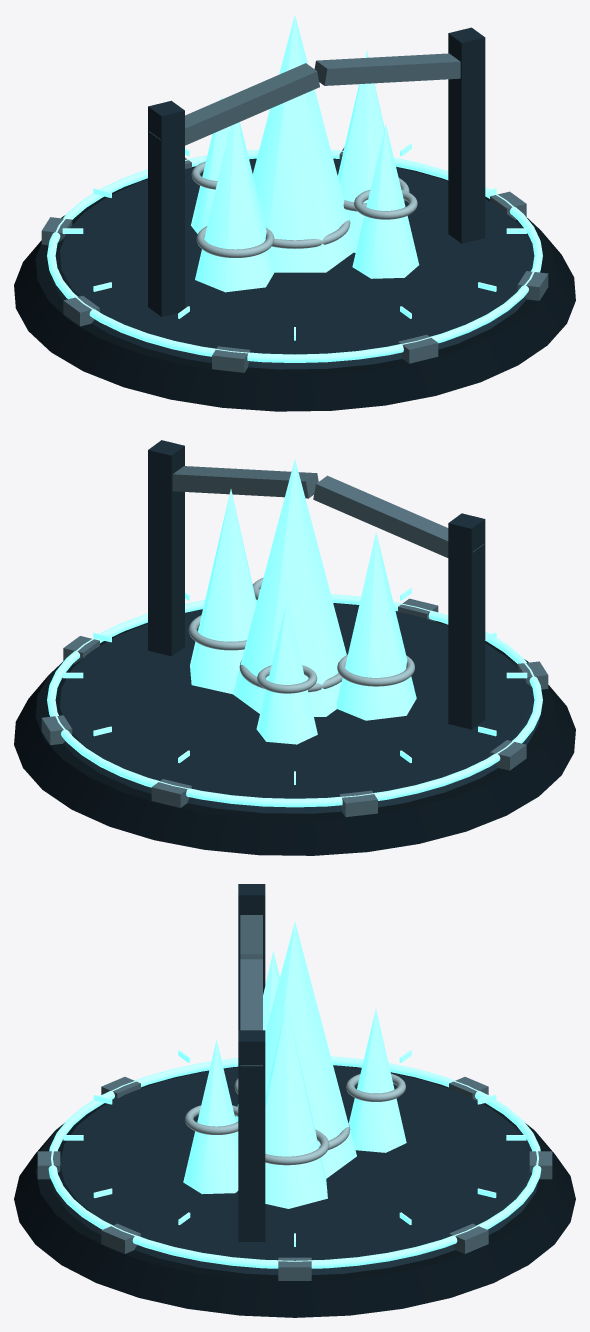
File: crystalMine.glb
3 views of the same model, one above another, from view 1: azimuth 30°, elevation 25°; view 2: azimuth 150°, elevation 25°; view 3: azimuth 270°, elevation 25° (orthographic).
Visible parts, largest first — view 1: upper-deck, armored-foundation, gantry-tower (×2), crystal-spire-0, gantry-arm (×2), crystal-spire-1, perimeter-light, crystal-spire-4, crystal-spire-2, crystal-spire-3, extractor-1, extractor-4 (+7 smaller); view 2: upper-deck, armored-foundation, gantry-tower (×2), crystal-spire-0, crystal-spire-1, gantry-arm (×2), crystal-spire-2, perimeter-light, crystal-spire-3, extractor-1, buttress-6, buttress-5 (+6 smaller); view 3: upper-deck, armored-foundation, crystal-spire-0, perimeter-light, crystal-spire-2, gantry-tower (×2), crystal-spire-4, crystal-spire-3, gantry-arm (×2), buttress-0, buttress-1, buttress-7 (+4 smaller).
Part boxes in pixels (bbox=[...]): upper-deck: bbox=[50, 159, 540, 369]; armored-foundation: bbox=[14, 158, 575, 411]; gantry-tower (×2): bbox=[148, 27, 485, 316]; crystal-spire-0: bbox=[252, 15, 353, 272]; gantry-arm (×2): bbox=[149, 53, 460, 145]; crystal-spire-1: bbox=[195, 122, 274, 292]; perimeter-light: bbox=[47, 149, 542, 362]; crystal-spire-4: bbox=[352, 124, 419, 278]; crystal-spire-2: bbox=[338, 50, 384, 252]; crystal-spire-3: bbox=[191, 96, 229, 233]; extractor-1: bbox=[196, 226, 274, 257]; extractor-4: bbox=[354, 190, 417, 219]; upper-deck: bbox=[49, 603, 539, 813]; armored-foundation: bbox=[14, 603, 575, 855]; gantry-tower (×2): bbox=[148, 440, 485, 729]; crystal-spire-0: bbox=[233, 459, 346, 716]; crystal-spire-1: bbox=[336, 532, 416, 720]; gantry-arm (×2): bbox=[172, 466, 483, 557]; crystal-spire-2: bbox=[190, 489, 256, 694]; perimeter-light: bbox=[47, 594, 542, 807]; crystal-spire-3: bbox=[256, 600, 317, 744]; extractor-1: bbox=[337, 654, 414, 686]; buttress-6: bbox=[151, 779, 191, 807]; buttress-5: bbox=[339, 790, 377, 817]; upper-deck: bbox=[51, 1065, 538, 1275]; armored-foundation: bbox=[14, 1065, 575, 1317]; crystal-spire-0: bbox=[265, 922, 356, 1178]; perimeter-light: bbox=[48, 1056, 541, 1268]; crystal-spire-2: bbox=[265, 1004, 327, 1208]; gantry-tower (×2): bbox=[238, 884, 265, 1241]; crystal-spire-4: bbox=[183, 1040, 238, 1194]; crystal-spire-3: bbox=[348, 1009, 406, 1152]; gantry-arm (×2): bbox=[240, 915, 262, 1066]; buttress-0: bbox=[278, 1257, 311, 1280]; buttress-1: bbox=[101, 1223, 140, 1253]; buttress-7: bbox=[449, 1223, 488, 1253].
Size of the model in its own units: 10.4 by 5.68 by 10.4.
